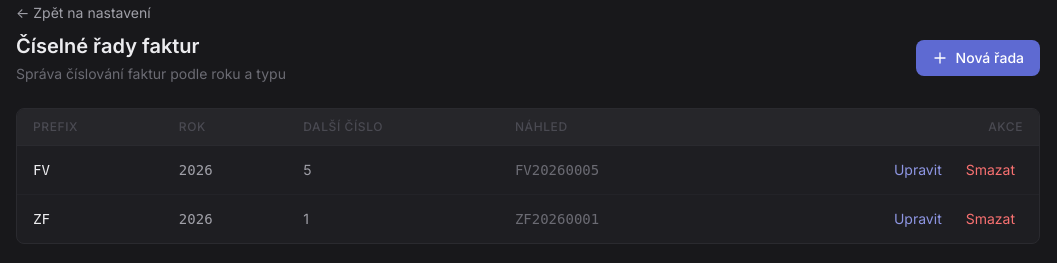
Sequences Settings Page › edit button shows inline input
This screenshot has width=1057, height=263.
Expected: the text "FV" is shown, left=17, top=146, right=163, bottom=194
Click the button "Upravit" in the row of "FV20260005" at [918, 170], box left=886, top=156, right=950, bottom=184
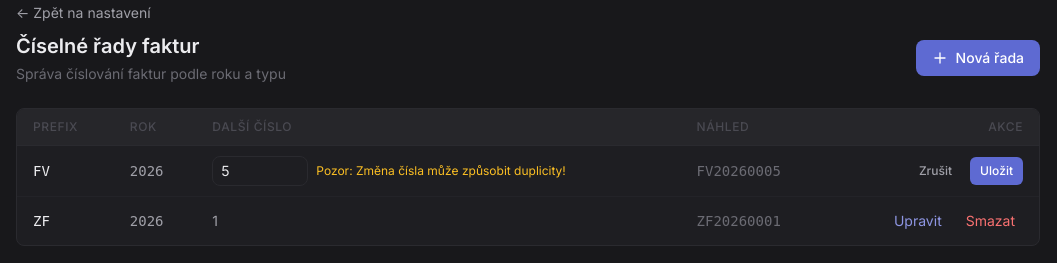
Expected: the number field is shown, left=212, top=156, right=308, bottom=186
Expected: the button "Uložit" is shown, left=970, top=157, right=1023, bottom=185
